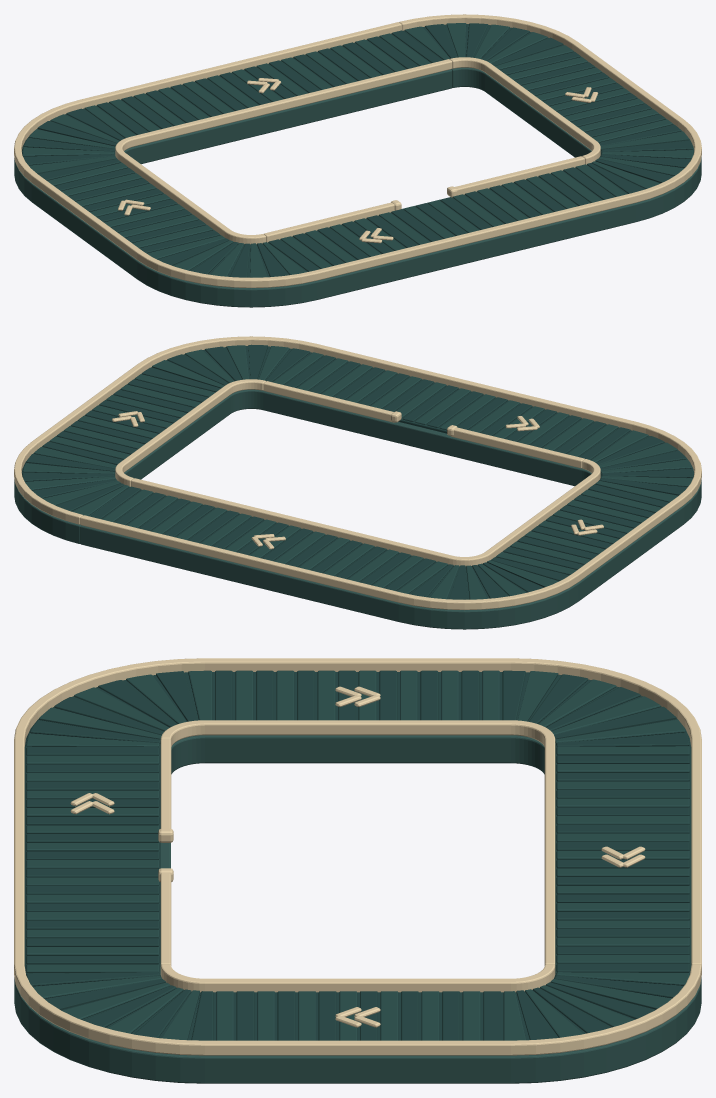
File: Belt_Loop_Level_01.fbx
3 views of the same model, one above another, from view 1: azimuth 30°, elevation 25°; view 2: azimuth 150°, elevation 25°; view 3: azimuth 270°, elevation 25° (orthographic). The views are drawn at different scales.
Parts seen in each view (by area): view 1: Slats, Body, BeltSurface; view 2: Slats, Body, BeltSurface; view 3: Slats, Body, BeltSurface.
Boxes of the visible parts, box(x1,y1,x2,y2) form: Slats: box(22, 23, 693, 277); Body: box(14, 14, 701, 307); BeltSurface: box(21, 24, 694, 277); Slats: box(22, 344, 693, 599); Body: box(14, 336, 701, 629); BeltSurface: box(21, 346, 694, 599); Slats: box(26, 670, 689, 1040); Body: box(14, 658, 701, 1083); BeltSurface: box(24, 672, 691, 1040).
Size of the model in its own units: 7.24 by 0.3595 by 5.44.
